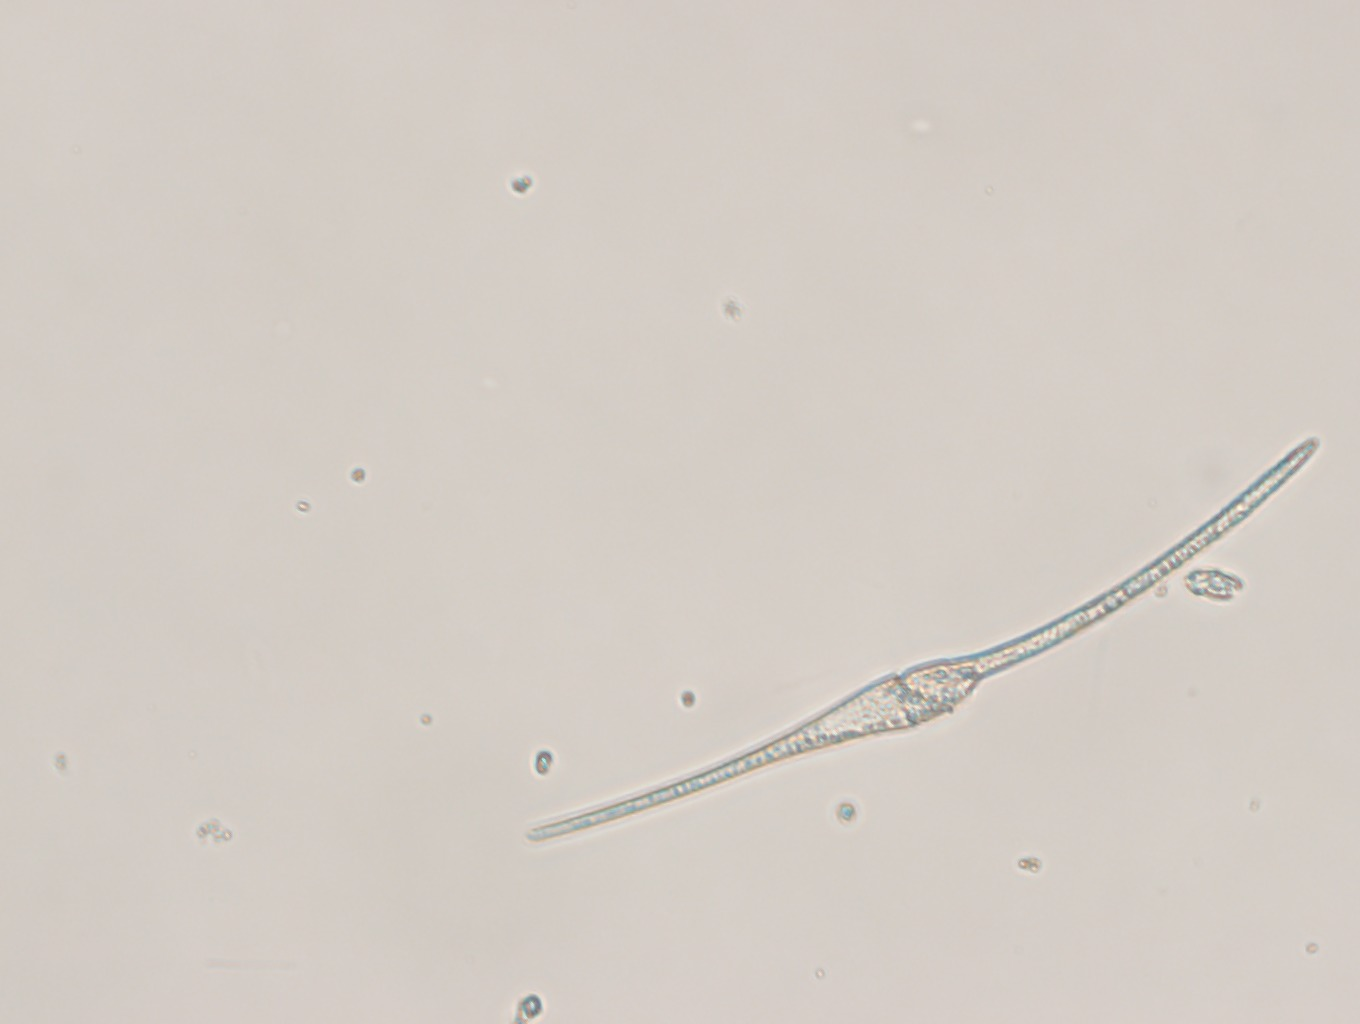ceratium fusus: (520, 423, 1325, 845)
